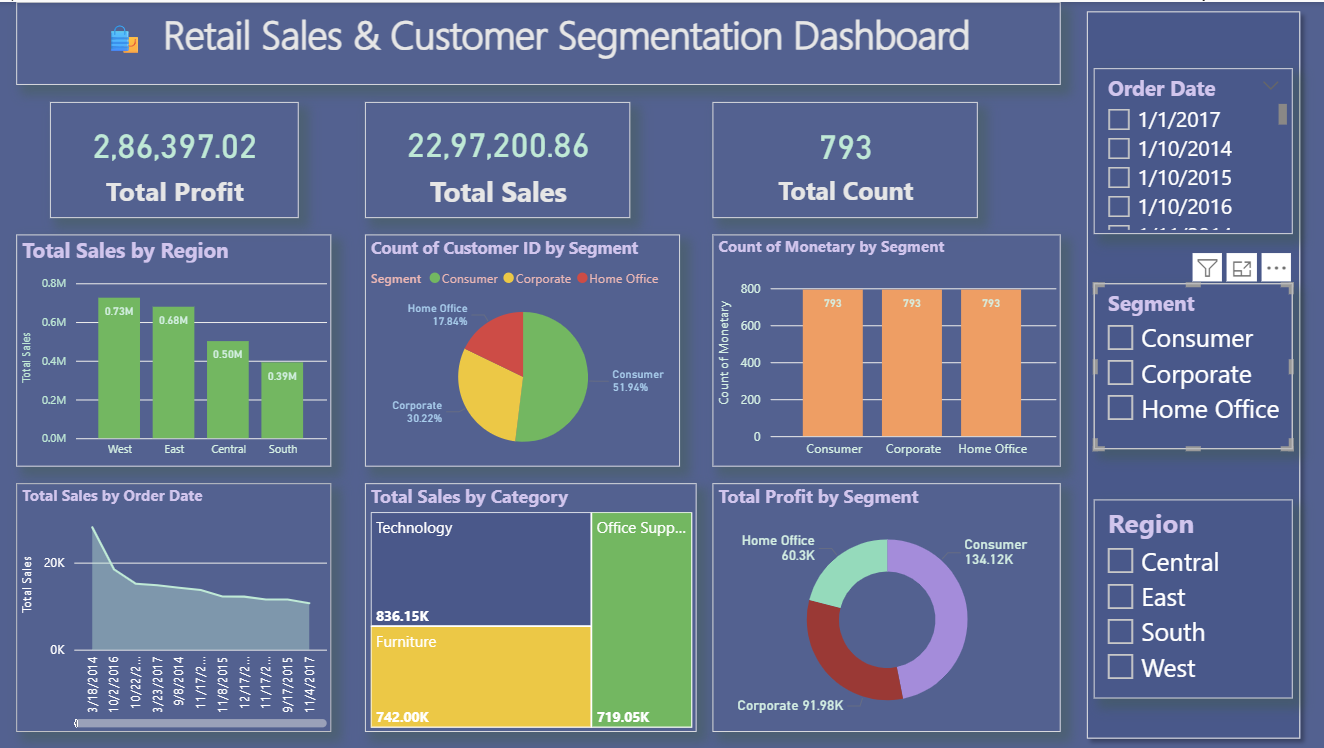

The dashboard page shown, as its layout file describes it:
{"tool":"powerbi","page":{"name":"Page 2","canvas":[1280,720],"ordinal":0},"visuals":[{"type":"textbox","box":[16,0,1008,80],"z":0},{"type":"shape","box":[1040,0,224,720],"z":1000},{"type":"card","fields":{"Values":["rfm_segments.Total Profit"]},"box":[48,96,240,112],"z":2000},{"type":"card","fields":{"Values":["rfm_segments.Total Sales"]},"box":[352,96,256,112],"z":3000},{"type":"card","fields":{"Values":["rfm_segments.Customer Count"]},"box":[688,96,256,112],"z":4000},{"type":"columnChart","fields":{"Category":["Superstore.Region"],"Y":["rfm_segments.Total Sales"]},"box":[16,224,304,224],"z":5000},{"type":"clusteredColumnChart","fields":{"Category":["Superstore.Segment"],"Y":["CountNonNull(rfm_segments.Monetary)"]},"box":[688,224,336,224],"z":6000},{"type":"pieChart","fields":{"Y":["CountNonNull(Superstore.Customer ID)"],"Category":["Superstore.Segment"]},"box":[352,224,304,224],"z":7000},{"type":"areaChart","fields":{"Category":["Superstore.Order Date"],"Y":["rfm_segments.Total Sales"]},"box":[16,464,304,240],"z":8000},{"type":"treemap","fields":{"Values":["rfm_segments.Total Sales"],"Group":["Superstore.Category"]},"box":[352,464,320,240],"z":9000},{"type":"donutChart","fields":{"Category":["Superstore.Segment"],"Y":["rfm_segments.Total Profit"]},"box":[688,464,336,240],"z":10000},{"type":"slicer","fields":{"Values":["Superstore.Order Date"]},"box":[1056,64,192,160],"z":11000},{"type":"slicer","fields":{"Values":["Superstore.Segment"]},"box":[1056,272,192,160],"z":12000},{"type":"slicer","fields":{"Values":["Superstore.Region"]},"box":[1056,480,192,192],"z":13000}]}

Visuals, with their boxes in screenshot pixels (x1, y1, x2, y2), scaled from the page's 1280x720 canvas onto the 1324x748 screenshot:
textbox: <bbox>17, 0, 1059, 83</bbox>
shape: <bbox>1076, 0, 1307, 747</bbox>
card - rfm_segments.Total Profit: <bbox>50, 100, 298, 216</bbox>
card - rfm_segments.Total Sales: <bbox>364, 100, 629, 216</bbox>
card - rfm_segments.Customer Count: <bbox>712, 100, 976, 216</bbox>
columnChart - Superstore.Region x rfm_segments.Total Sales: <bbox>17, 233, 331, 465</bbox>
clusteredColumnChart - Superstore.Segment x CountNonNull(rfm_segments.Monetary): <bbox>712, 233, 1059, 465</bbox>
pieChart - CountNonNull(Superstore.Customer ID) x Superstore.Segment: <bbox>364, 233, 679, 465</bbox>
areaChart - Superstore.Order Date x rfm_segments.Total Sales: <bbox>17, 482, 331, 731</bbox>
treemap - rfm_segments.Total Sales x Superstore.Category: <bbox>364, 482, 695, 731</bbox>
donutChart - Superstore.Segment x rfm_segments.Total Profit: <bbox>712, 482, 1059, 731</bbox>
slicer - Superstore.Order Date: <bbox>1092, 66, 1291, 233</bbox>
slicer - Superstore.Segment: <bbox>1092, 283, 1291, 449</bbox>
slicer - Superstore.Region: <bbox>1092, 499, 1291, 698</bbox>
